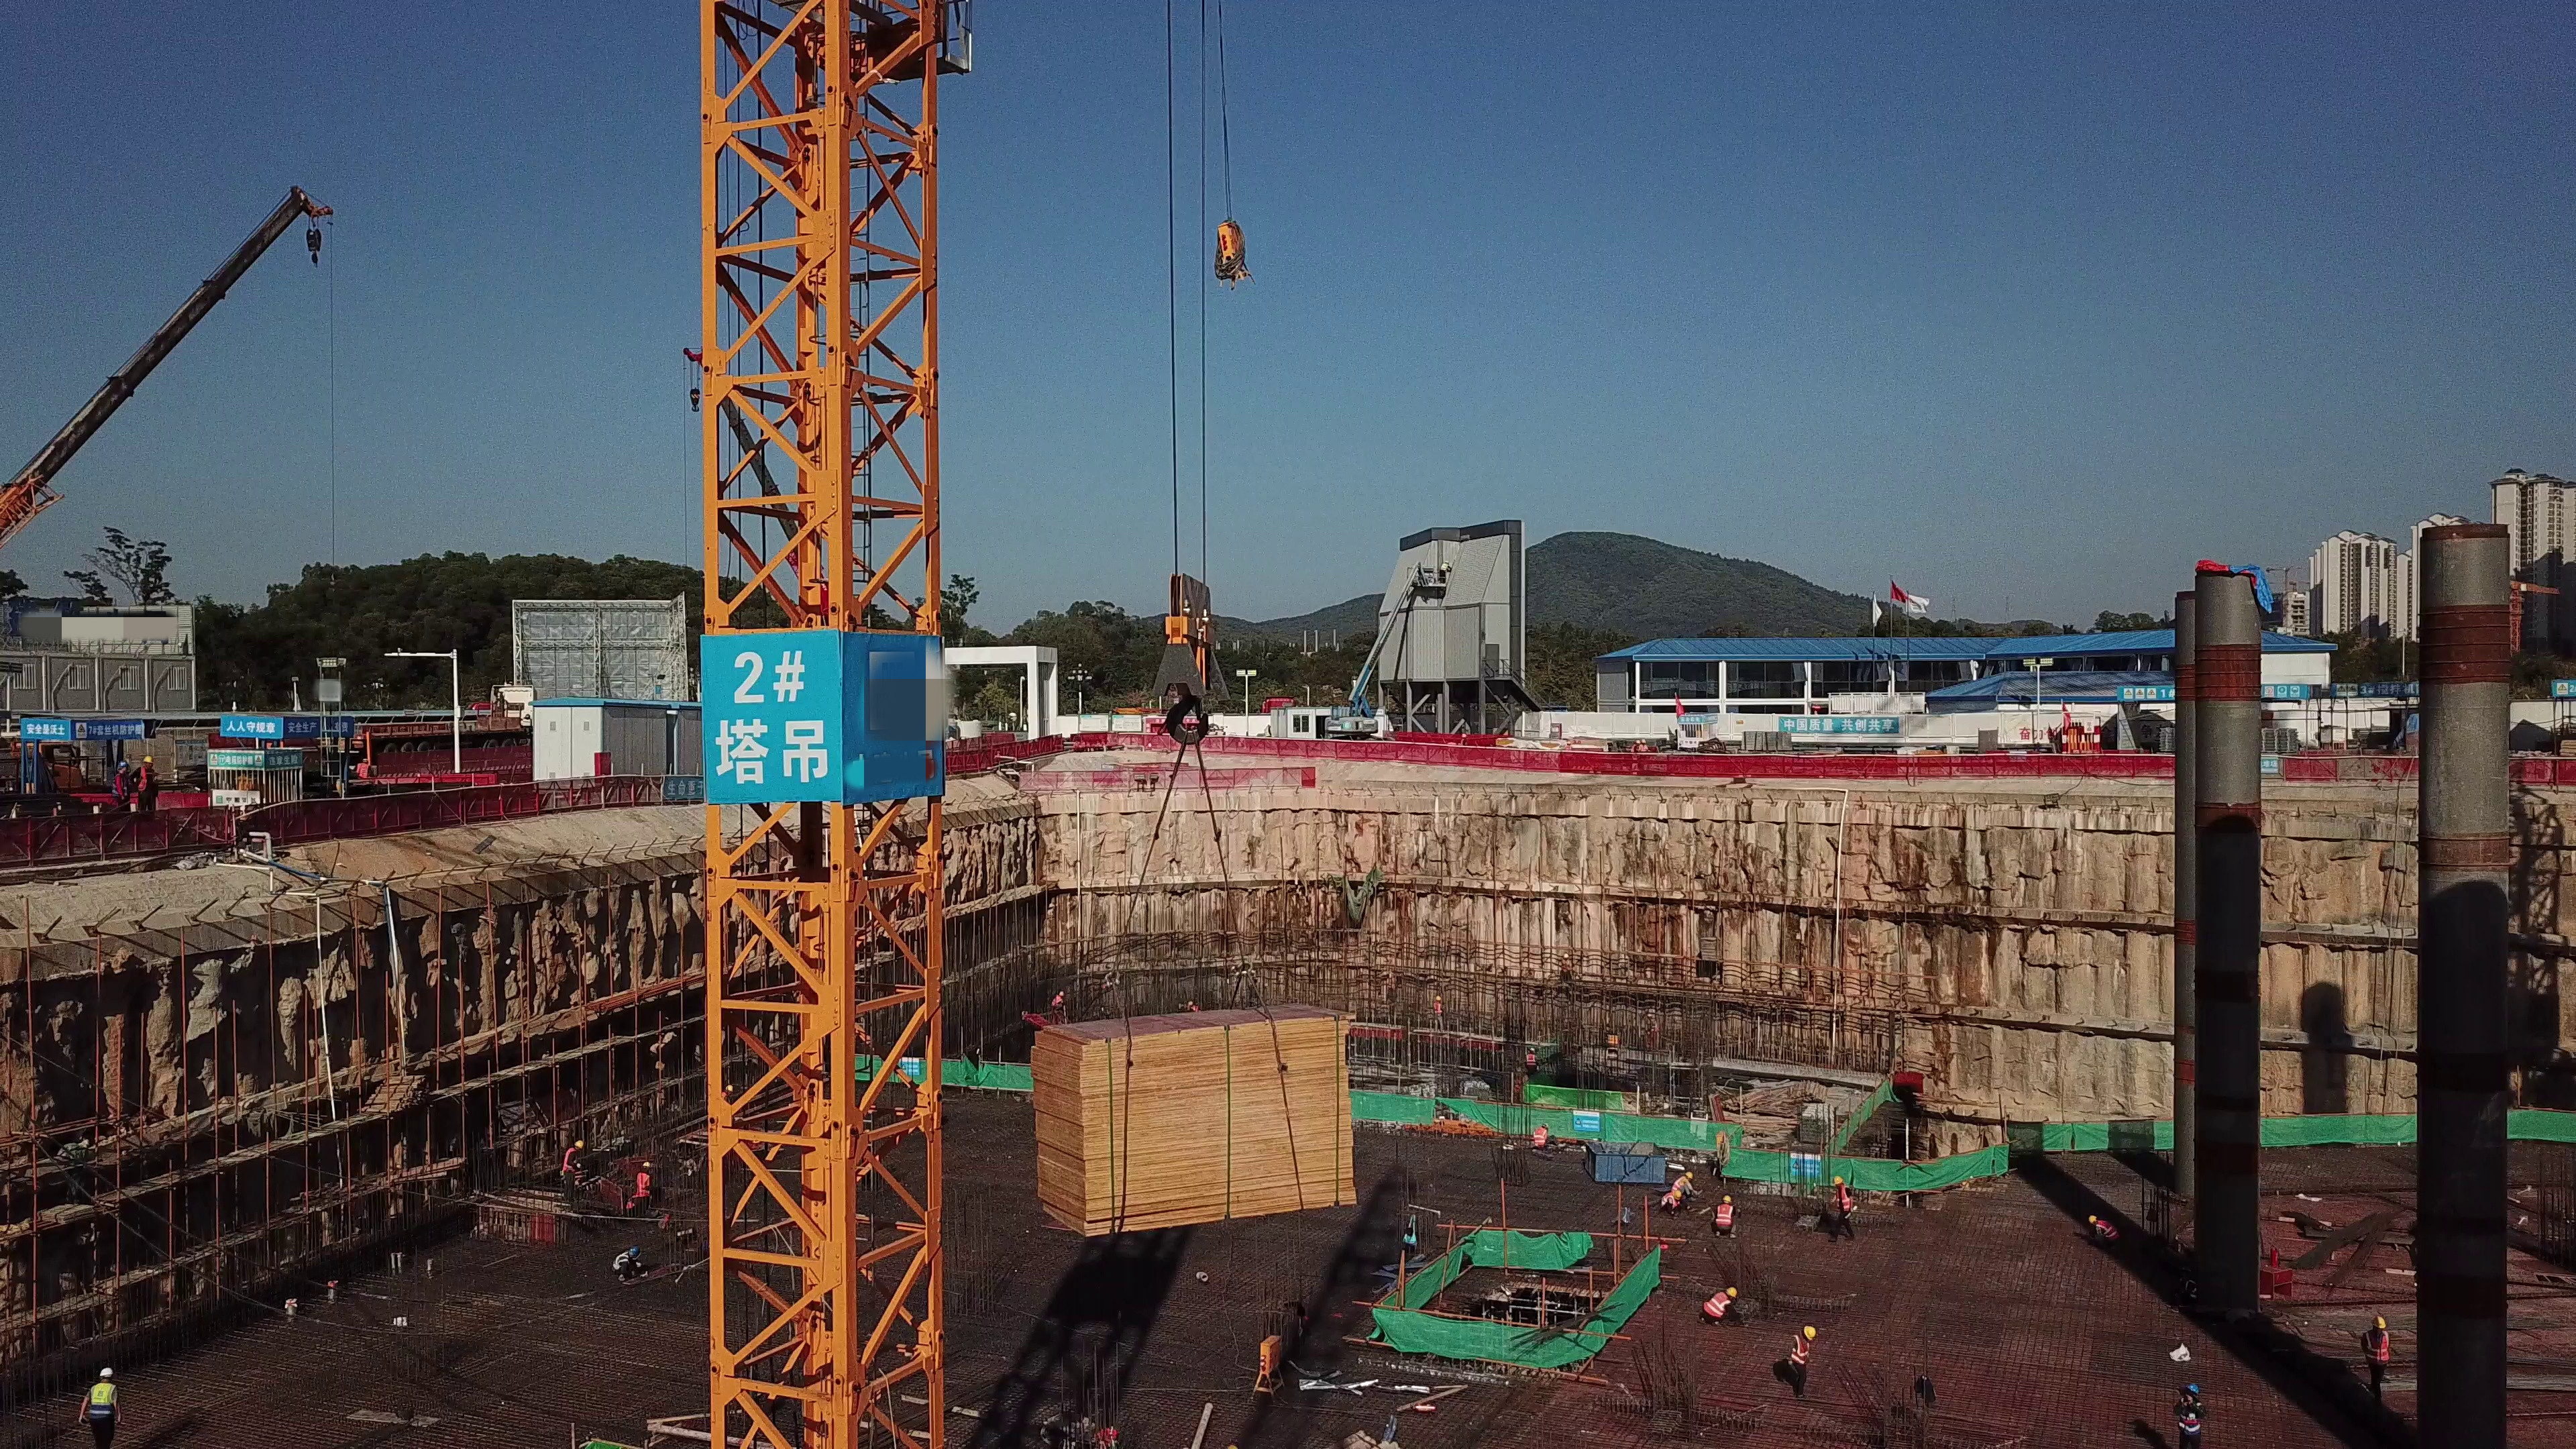board: (1038, 1016, 1362, 1216)
brick: (1743, 723, 1796, 755)
ebox: (1244, 1334, 1297, 1400)
fence: (313, 773, 588, 840), (1724, 755, 2106, 790)
helmet: (1725, 1285, 1739, 1299), (1803, 1324, 1816, 1339), (2186, 1385, 2201, 1394), (100, 1366, 111, 1377), (632, 1247, 642, 1260), (1684, 1170, 1695, 1181), (142, 755, 156, 765), (2369, 1316, 2387, 1323), (1722, 1194, 1733, 1204), (574, 1138, 583, 1150), (643, 1160, 652, 1170), (1833, 1175, 1843, 1184), (2088, 1214, 2096, 1224), (116, 760, 129, 768), (1434, 994, 1443, 1003), (1542, 1120, 1551, 1129), (1674, 1191, 1680, 1201), (1561, 953, 1570, 959), (362, 757, 370, 763), (1059, 989, 1065, 997), (1461, 734, 1468, 739), (1528, 1046, 1537, 1051), (1633, 739, 1642, 743), (1640, 737, 1646, 744)
hook: (1146, 572, 1234, 749), (298, 215, 327, 269), (680, 374, 704, 421)
hopper: (1326, 558, 1442, 746), (1587, 1139, 1669, 1185)
person: (78, 1363, 121, 1448), (2360, 1313, 2397, 1403), (1786, 1323, 1823, 1400), (2173, 1377, 2212, 1448), (1829, 1171, 1858, 1243), (1699, 1283, 1749, 1324), (607, 1244, 650, 1285), (557, 1134, 580, 1205), (632, 1159, 654, 1223), (133, 753, 158, 812), (109, 759, 135, 808), (1712, 1193, 1737, 1243), (2086, 1214, 2119, 1245), (1668, 1170, 1703, 1192), (1527, 1122, 1554, 1152), (1660, 1189, 1686, 1217), (1429, 992, 1448, 1034), (1521, 1046, 1542, 1077), (1047, 987, 1069, 1012), (1560, 952, 1574, 981), (1180, 996, 1204, 1012), (355, 757, 374, 776), (1459, 733, 1470, 760), (1629, 739, 1640, 765), (1640, 739, 1649, 752)
scaffold: (1404, 1075, 1501, 1105), (1796, 1103, 1841, 1144)
slogan: (693, 631, 831, 796), (1782, 715, 1901, 733), (217, 716, 281, 741), (290, 717, 358, 738), (80, 720, 145, 737), (2119, 690, 2180, 704), (209, 757, 258, 769), (269, 755, 307, 769), (1675, 710, 1702, 724)
vest: (2366, 1331, 2392, 1366), (2179, 1397, 2200, 1437), (91, 1381, 112, 1416), (1705, 1293, 1727, 1322), (138, 767, 155, 796), (1834, 1186, 1852, 1213), (111, 773, 129, 800), (1793, 1336, 1809, 1366), (2096, 1222, 2118, 1240), (635, 1173, 651, 1197), (1716, 1203, 1733, 1228), (613, 1252, 629, 1271), (1531, 1128, 1546, 1145), (564, 1148, 576, 1171), (1671, 1175, 1686, 1189), (357, 762, 370, 778), (1526, 1053, 1539, 1067), (1660, 1191, 1674, 1203), (1051, 994, 1061, 1006), (1432, 1003, 1442, 1015), (1562, 959, 1571, 971), (1459, 739, 1468, 747)
wood: (1735, 1078, 1799, 1145)
